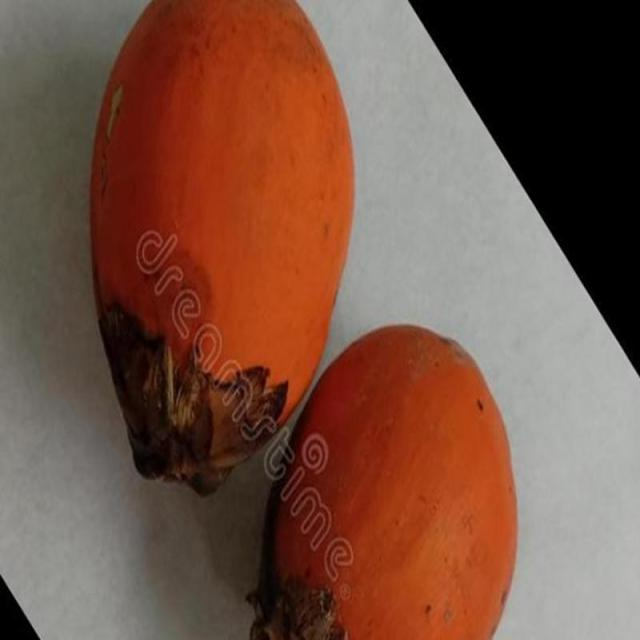good: (90, 0, 354, 495), (248, 325, 517, 639)
